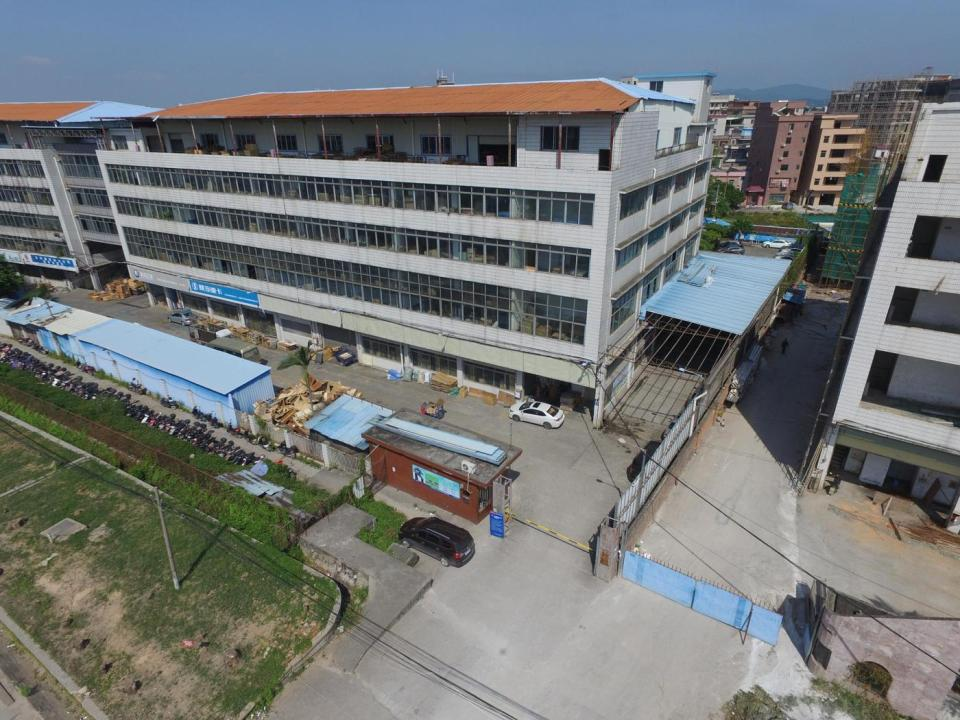bus: (207, 337, 262, 366)
car: (509, 400, 564, 430), (167, 310, 198, 326), (764, 238, 792, 248), (716, 246, 744, 253), (722, 240, 740, 248)
truck: (189, 322, 237, 348)
van: (400, 518, 476, 567)
